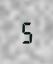five: (19, 20, 32, 43)
